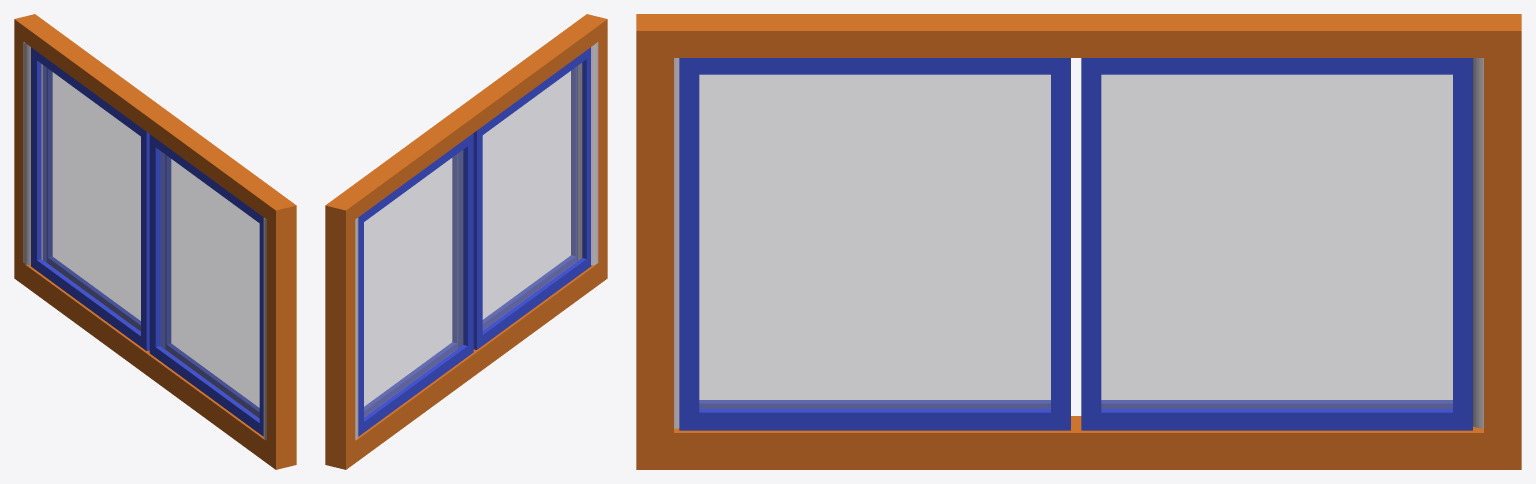
The model's file is window_good3.gltf.
3 renders of one model, left to right at view 1: azimuth 30°, elevation 25°; view 2: azimuth 150°, elevation 25°; view 3: azimuth 270°, elevation 25°, orthographic. The views are drawn at different scales.
Parts seen in each view (by area): view 1: Glass Frame, Window Frame, Window Hinges; view 2: Glass Frame, Window Frame, Window Hinges; view 3: Glass Frame, Window Frame, Window Hinges.
Boxes of the visible parts, bbox=[...] form: Glass Frame: bbox=[31, 47, 263, 436]; Window Frame: bbox=[14, 14, 296, 469]; Window Hinges: bbox=[23, 42, 266, 440]; Glass Frame: bbox=[358, 47, 591, 436]; Window Frame: bbox=[325, 14, 607, 469]; Window Hinges: bbox=[355, 42, 598, 440]; Glass Frame: bbox=[679, 58, 1472, 430]; Window Frame: bbox=[636, 14, 1521, 469]; Window Hinges: bbox=[674, 58, 1483, 428].
Bounding box in the file's own units: 0.1934 × 2.27 × 4.15.
